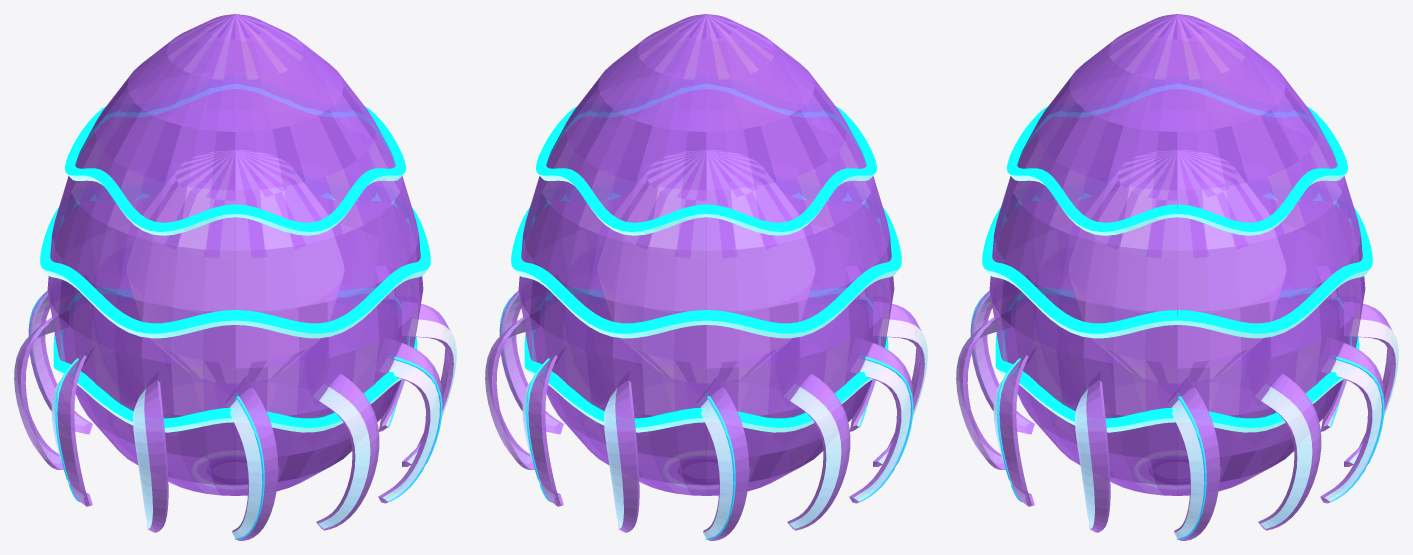
The model's file is 05_Legendary_Jelly.glb.
3 renders of one model, left to right at view 1: azimuth 30°, elevation 25°; view 2: azimuth 150°, elevation 25°; view 3: azimuth 270°, elevation 25°, orthographic.
Parts seen in each view (by area): view 1: 05_Legendary_Jelly_Shell, Jelly_InnerLuminousPearl, Jelly_CyanWave_2, Jelly_CyanWave_1, Jelly_TranslucentTendril_09, Jelly_CyanWave_0, Jelly_TranslucentTendril_08, Jelly_TranslucentTendril_07, Jelly_TranslucentTendril_10, Jelly_TranslucentTendril_06, Jelly_TranslucentTendril_11, Jelly_TranslucentTendril_05 (+4 smaller); view 2: 05_Legendary_Jelly_Shell, Jelly_InnerLuminousPearl, Jelly_CyanWave_2, Jelly_CyanWave_1, Jelly_TranslucentTendril_05, Jelly_CyanWave_0, Jelly_TranslucentTendril_04, Jelly_TranslucentTendril_03, Jelly_TranslucentTendril_06, Jelly_TranslucentTendril_02, Jelly_TranslucentTendril_07, Jelly_TranslucentTendril_01 (+4 smaller); view 3: 05_Legendary_Jelly_Shell, Jelly_InnerLuminousPearl, Jelly_CyanWave_2, Jelly_CyanWave_1, Jelly_TranslucentTendril_01, Jelly_CyanWave_0, Jelly_TranslucentTendril_00, Jelly_TranslucentTendril_11, Jelly_TranslucentTendril_02, Jelly_TranslucentTendril_10, Jelly_TranslucentTendril_03, Jelly_TranslucentTendril_09 (+4 smaller).
Part boxes in pixels (x1,y1,x2,y2): 05_Legendary_Jelly_Shell: (47,14,423,495); Jelly_InnerLuminousPearl: (127,150,343,382); Jelly_CyanWave_2: (65,84,405,235); Jelly_CyanWave_1: (40,193,430,338); Jelly_TranslucentTendril_09: (310,365,379,530); Jelly_CyanWave_0: (53,288,417,432); Jelly_TranslucentTendril_08: (226,377,278,540); Jelly_TranslucentTendril_07: (133,370,168,532); Jelly_TranslucentTendril_10: (375,338,442,503); Jelly_TranslucentTendril_06: (51,345,95,506); Jelly_TranslucentTendril_11: (402,302,456,466); Jelly_TranslucentTendril_05: (14,311,68,469); 05_Legendary_Jelly_Shell: (518,14,894,495); Jelly_InnerLuminousPearl: (598,150,814,382); Jelly_CyanWave_2: (536,84,876,235); Jelly_CyanWave_1: (511,193,901,338); Jelly_TranslucentTendril_05: (781,365,850,530); Jelly_CyanWave_0: (524,288,888,432); Jelly_TranslucentTendril_04: (697,377,749,540); Jelly_TranslucentTendril_03: (604,370,639,532); Jelly_TranslucentTendril_06: (846,338,913,503); Jelly_TranslucentTendril_02: (522,345,566,506); Jelly_TranslucentTendril_07: (873,302,927,466); Jelly_TranslucentTendril_01: (485,311,539,469); 05_Legendary_Jelly_Shell: (989,14,1365,495); Jelly_InnerLuminousPearl: (1069,150,1285,382); Jelly_CyanWave_2: (1007,84,1347,235); Jelly_CyanWave_1: (982,193,1372,338); Jelly_TranslucentTendril_01: (1252,365,1321,530); Jelly_CyanWave_0: (995,288,1359,432); Jelly_TranslucentTendril_00: (1168,377,1220,540); Jelly_TranslucentTendril_11: (1075,370,1110,532); Jelly_TranslucentTendril_02: (1317,338,1384,503); Jelly_TranslucentTendril_10: (993,345,1037,506); Jelly_TranslucentTendril_03: (1344,302,1398,466); Jelly_TranslucentTendril_09: (956,311,1010,469).
Bounding box in the file's own units: 4.09 × 4.64 × 4.05.
